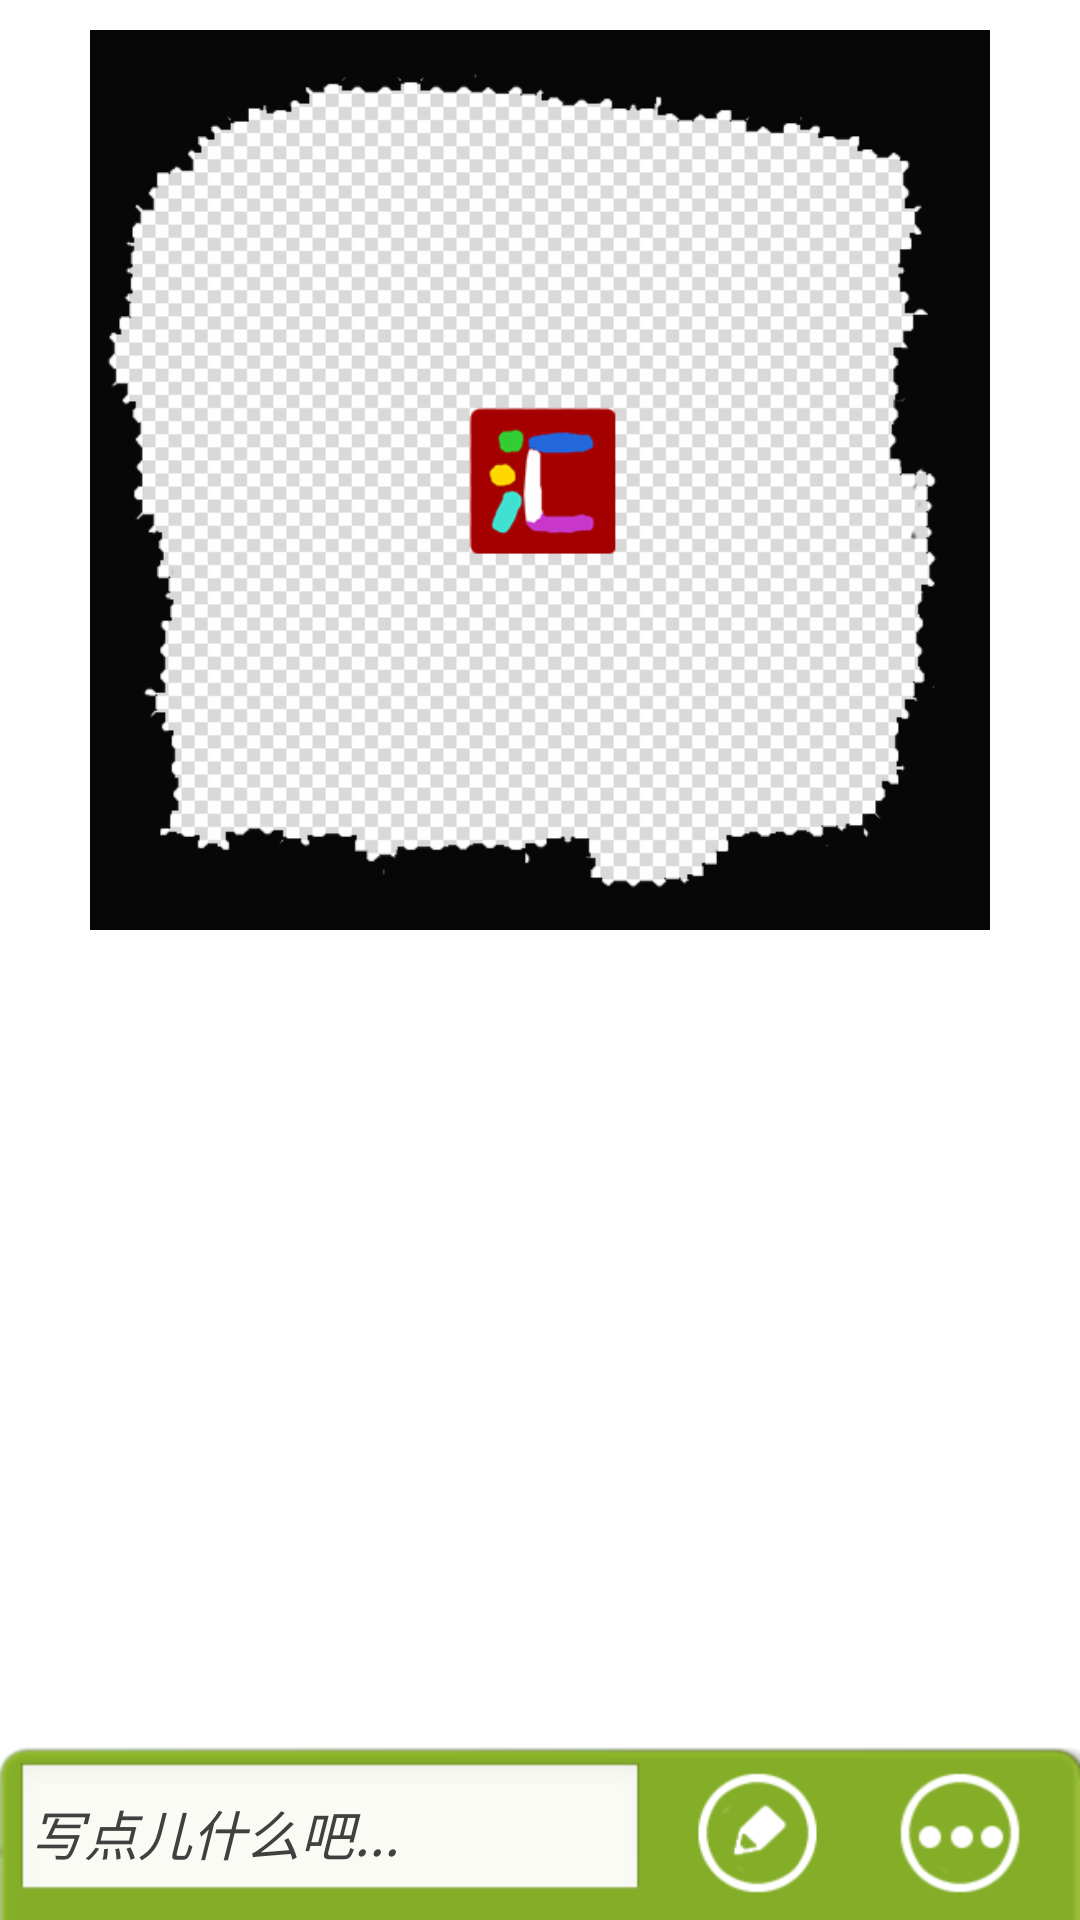

Screen size 1080w x 1920h. Icon name, then its center in pixels as point (x, y):
qrcreate create: point (757, 1833)
qrcreate more: point (960, 1833)
